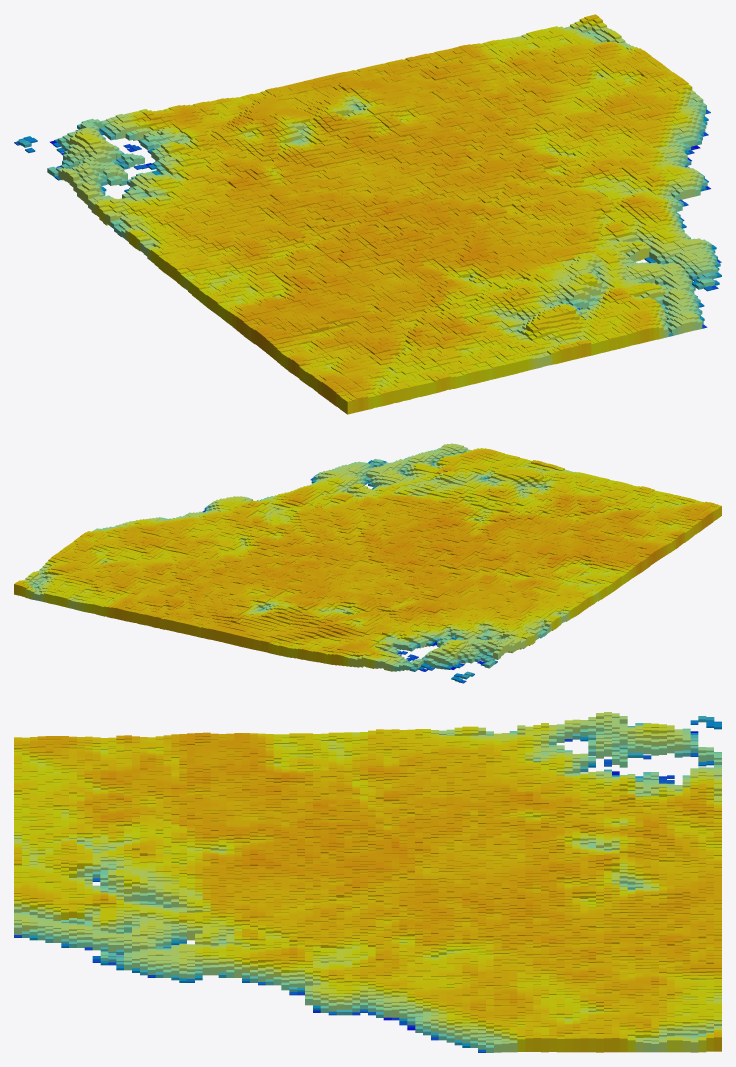
The model's file is population.glb.
The picture shows the model from 3 angles, top to bottom: view 1: azimuth 30°, elevation 25°; view 2: azimuth 150°, elevation 25°; view 3: azimuth 270°, elevation 25°; orthographic projection. The views are drawn at different scales.
Parts seen in each view (by area): view 1: population; view 2: population; view 3: population.
Part boxes in pixels (x1,y1,x2,y2): population: [14, 14, 721, 414]; population: [14, 443, 721, 683]; population: [14, 712, 721, 1052].
Size of the model in its own units: 9040 by 676 by 8980.
